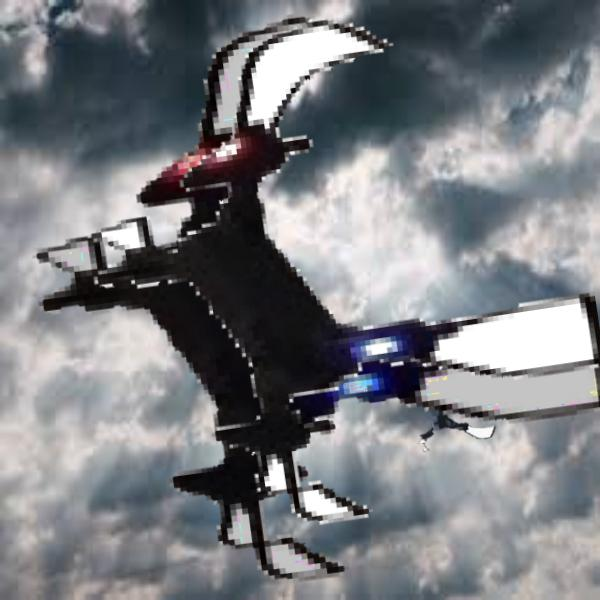drone: (11, 9, 596, 594), (69, 13, 590, 534), (404, 359, 499, 454)
